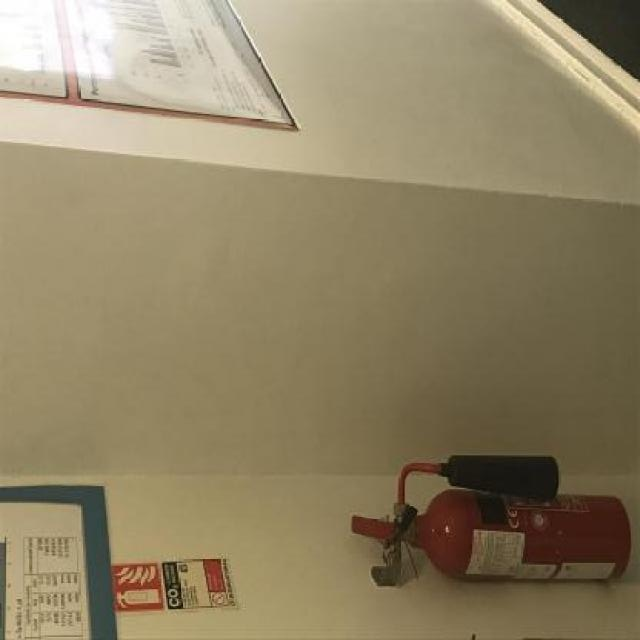fire extinguisher: (351, 452, 632, 586)
